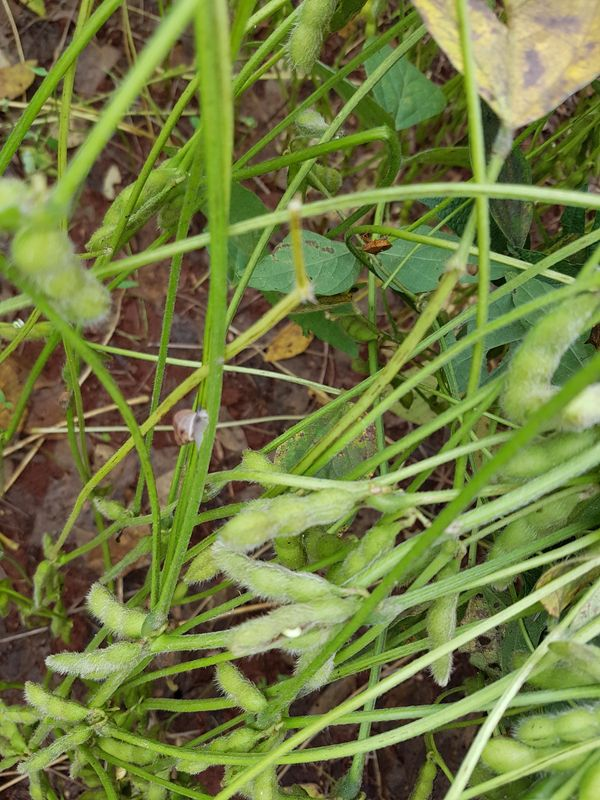Euschistus_heros_adulto: (352, 227, 402, 268)
Gastropoda: (162, 398, 219, 457)
